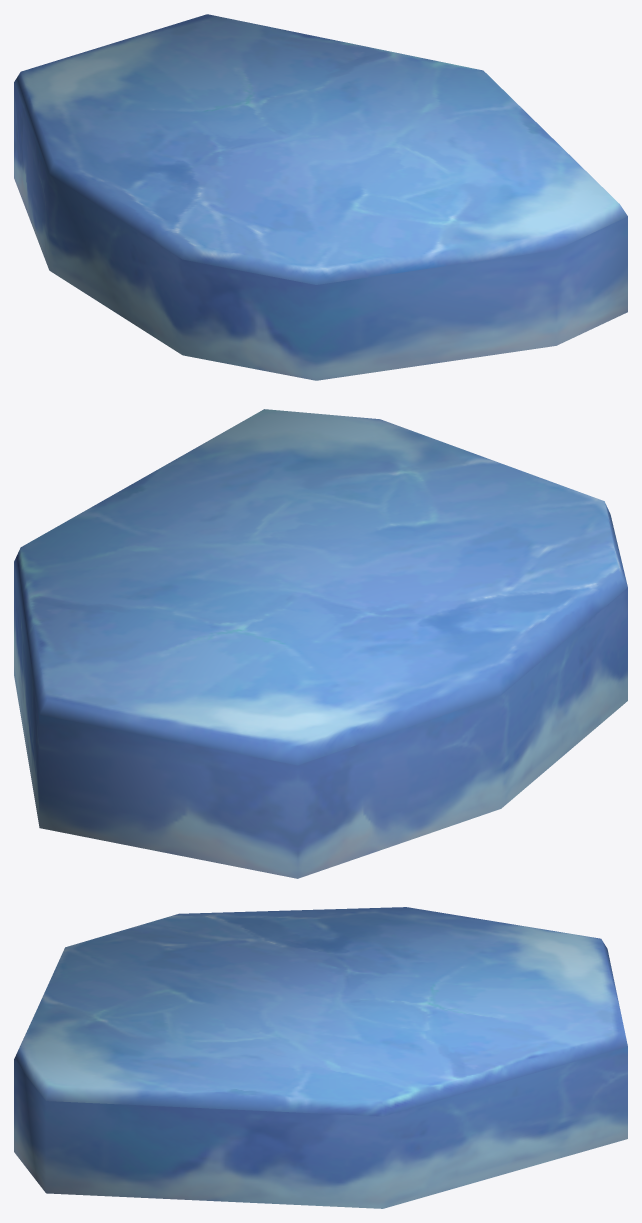
Rendered from Map_10_ice08.FBX.
3 views of the same model, one above another, from view 1: azimuth 30°, elevation 25°; view 2: azimuth 150°, elevation 25°; view 3: azimuth 270°, elevation 25° (orthographic). The views are drawn at different scales.
Visible parts, largest first — view 1: Map_10_ice08; view 2: Map_10_ice08; view 3: Map_10_ice08.
Boxes of the visible parts, x1=… form: Map_10_ice08: x1=14, y1=14, x2=627, y2=380; Map_10_ice08: x1=14, y1=409, x2=627, y2=878; Map_10_ice08: x1=14, y1=907, x2=627, y2=1208.
Size of the model in its own units: 484 by 118 by 629.
Materials: 1 (1 with a texture image).
